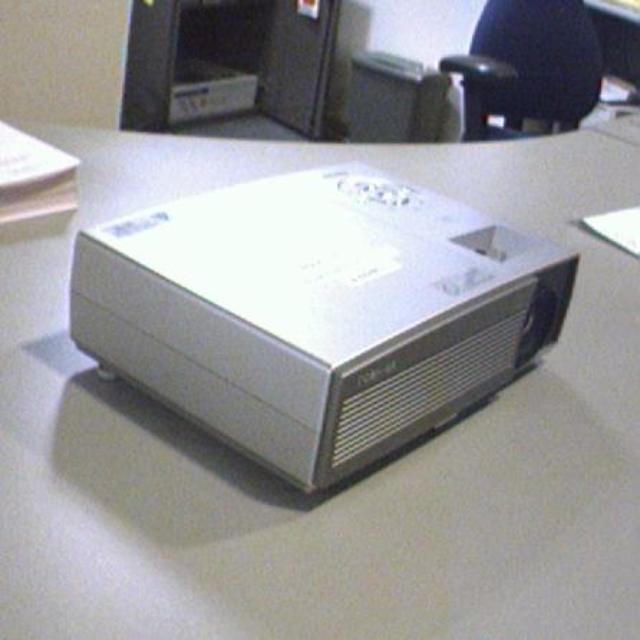Projector: (66, 154, 582, 498)
